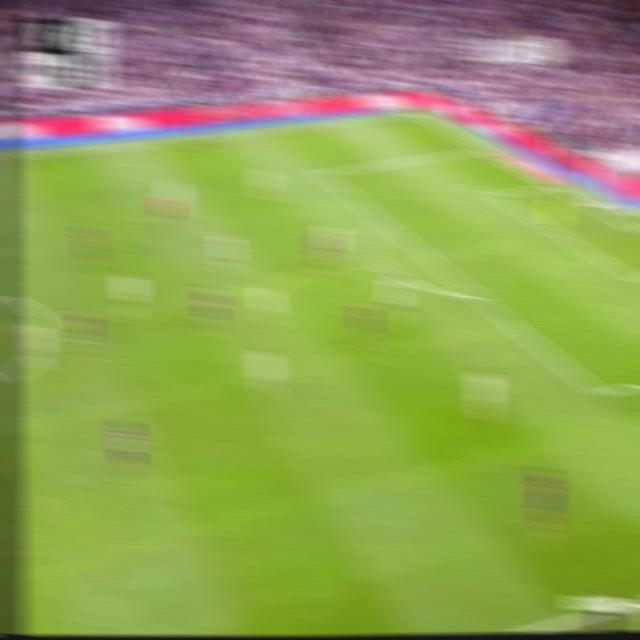bigarea_bottom_inner: (588, 380, 610, 404)
bigarea_top_inner: (315, 166, 330, 179)
bottom_arc_area_intersection: (466, 286, 487, 305)
corner: (405, 105, 426, 118)
smallarea_top_inner: (487, 189, 504, 202)
top_arc_area_intersection: (373, 212, 393, 229)
